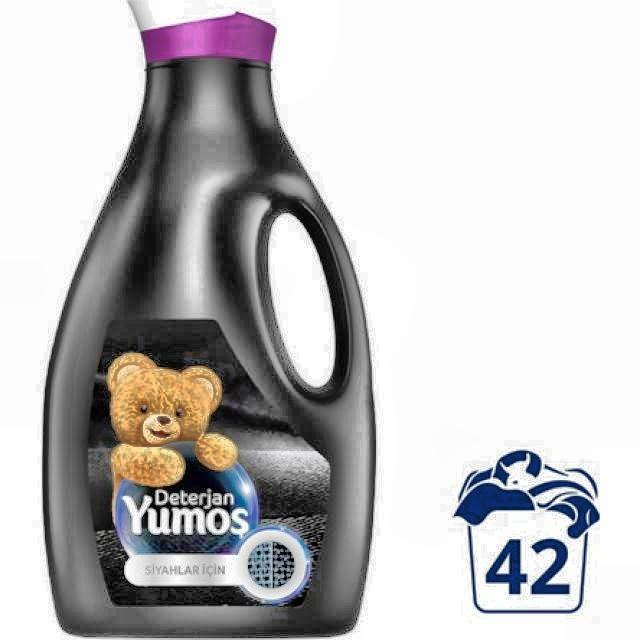plastic: (40, 0, 379, 640)
